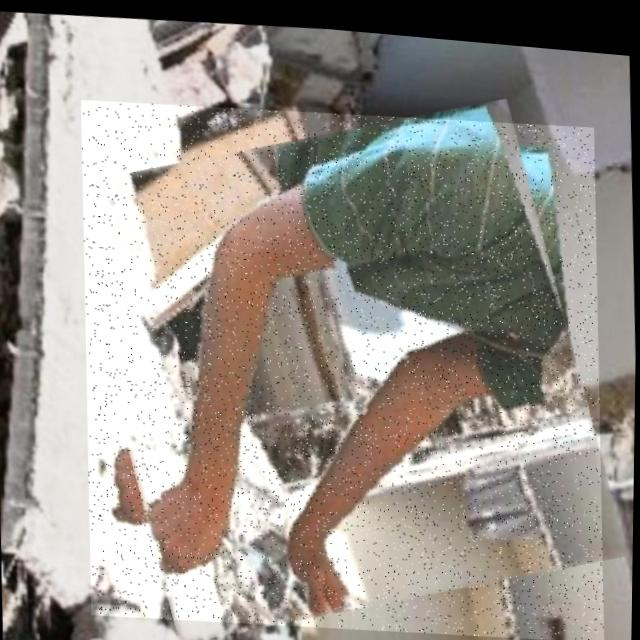Person in Rubble: (73, 80, 611, 640)
